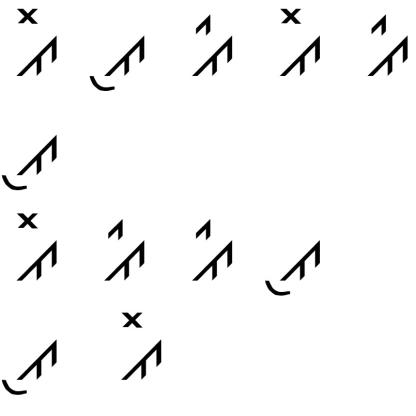kaw: (254, 228, 323, 299), (82, 28, 150, 96), (2, 125, 64, 197), (1, 330, 60, 402)
ki: (186, 13, 242, 86), (182, 211, 236, 285), (358, 13, 413, 81), (101, 214, 146, 288)
ko: (11, 5, 65, 87), (270, 7, 327, 82), (113, 309, 168, 386), (10, 210, 64, 287)
